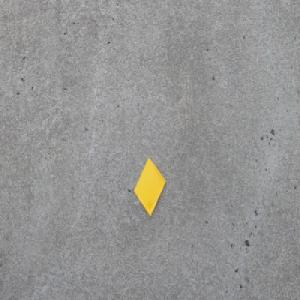PlasticPart: (133, 157, 166, 217)
